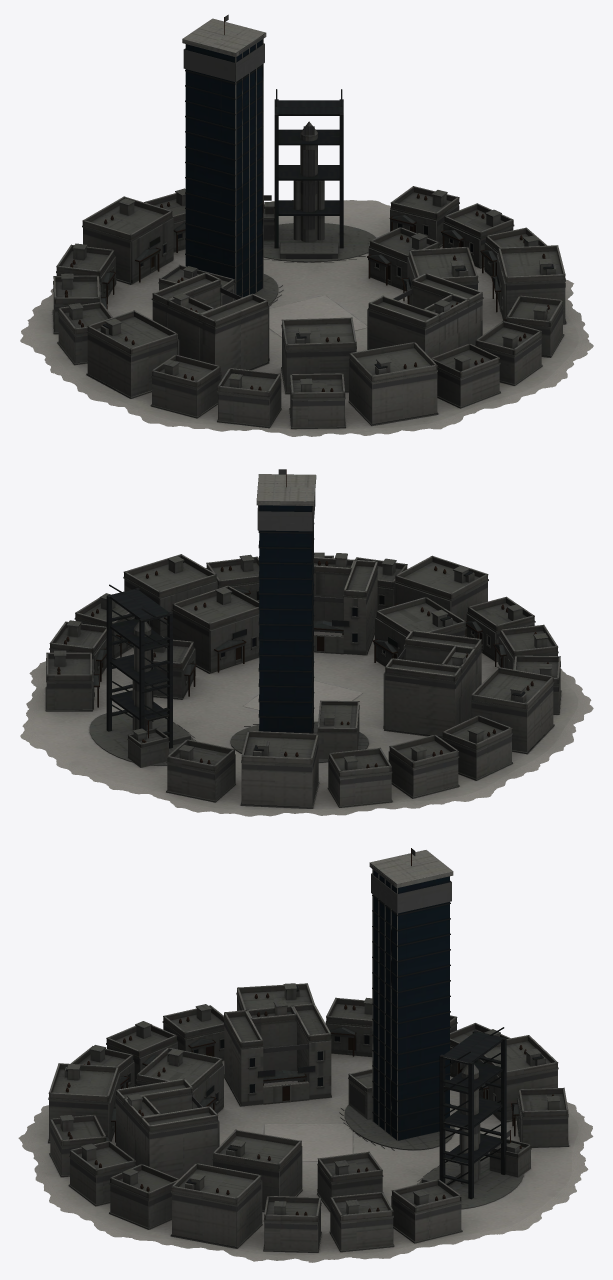
The model's file is modern-town-big-a-steppe.glb.
The picture shows the model from 3 angles, top to bottom: view 1: azimuth 30°, elevation 25°; view 2: azimuth 150°, elevation 25°; view 3: azimuth 270°, elevation 25°; orthographic projection.
Visible parts, largest first — view 1: LOD0; view 2: LOD0; view 3: LOD0.
Boxes of the visible parts, box(x1,y1,x2,y2) form: LOD0: box(20, 14, 593, 436); LOD0: box(20, 469, 593, 816); LOD0: box(18, 848, 593, 1262).
Size of what is drawn, in the model's own units: 7.9 by 4.2 by 7.96.
3 materials, 3 textured.
